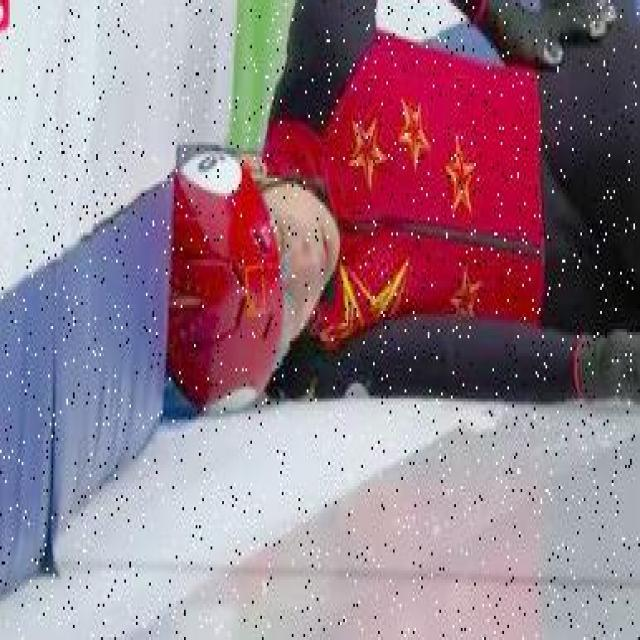fall: (161, 0, 633, 408)
